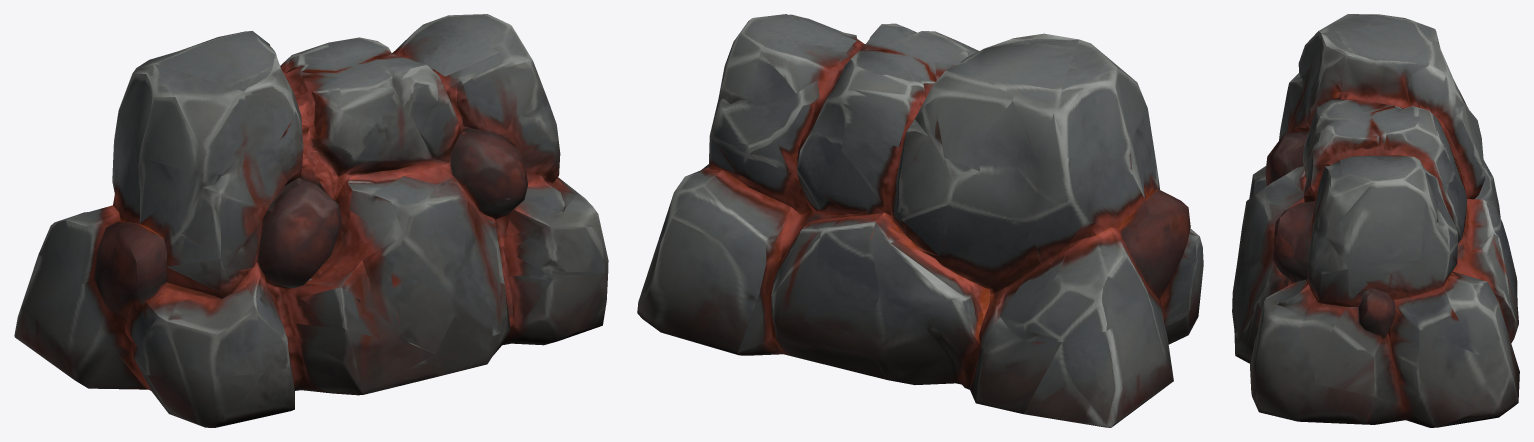
3 views of the same model, side by side, from view 1: azimuth 30°, elevation 25°; view 2: azimuth 150°, elevation 25°; view 3: azimuth 270°, elevation 25° (orthographic). The views are drawn at different scales.
Visible parts, largest first — view 1: iron_vein; view 2: iron_vein; view 3: iron_vein.
Boxes of the visible parts, x1,y1,x2,y2 form: iron_vein: (14,14,608,427); iron_vein: (637,14,1203,427); iron_vein: (1232,14,1519,427).
Size of the model in its own units: 1.9 by 1.1 by 1.14.
1 material, 1 textured.
